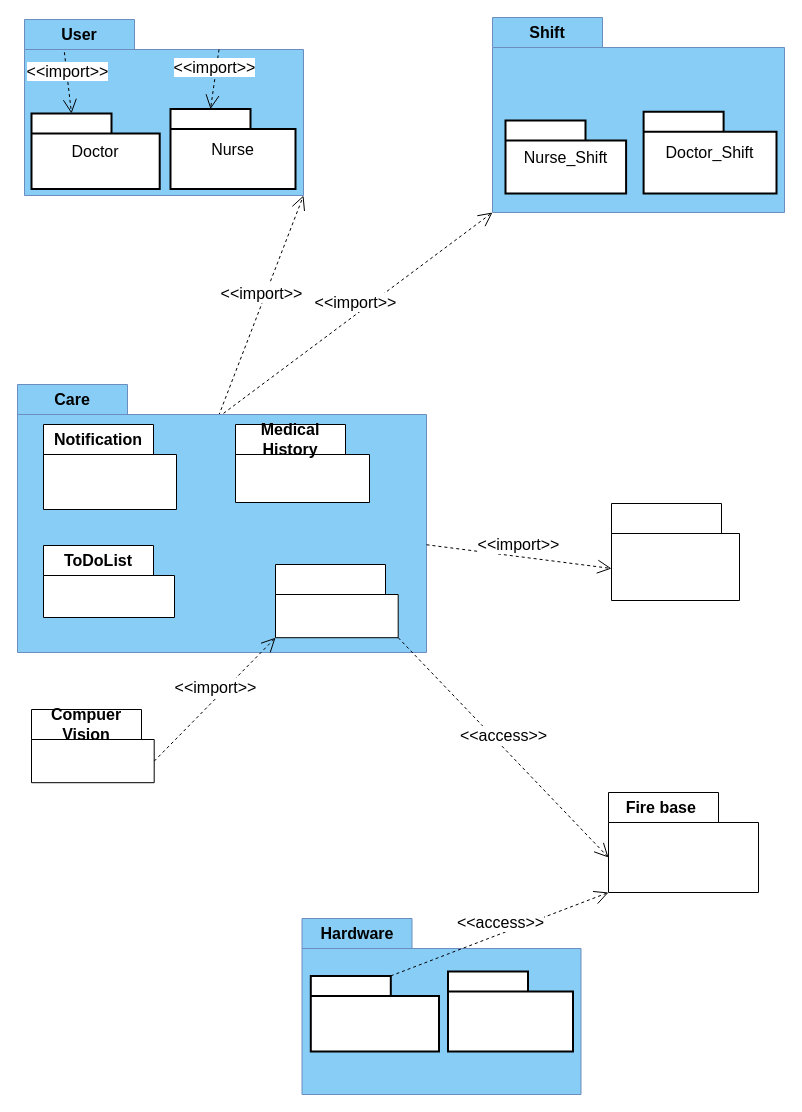
Image size: 802x1112. Some labels were removed from this diagram. Here are the shapes that lost their labels. From the top down, the centre of each, then its label:
At point (675, 551): "DataBase".
At point (336, 601): "Streaming".
At point (374, 1013): "esp-32".
At point (510, 1011): "Patinet Monitor".
